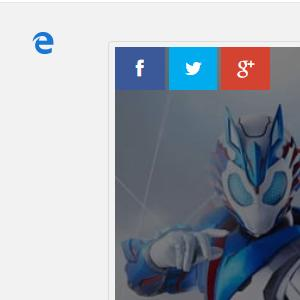edge: (32, 32, 53, 54)
